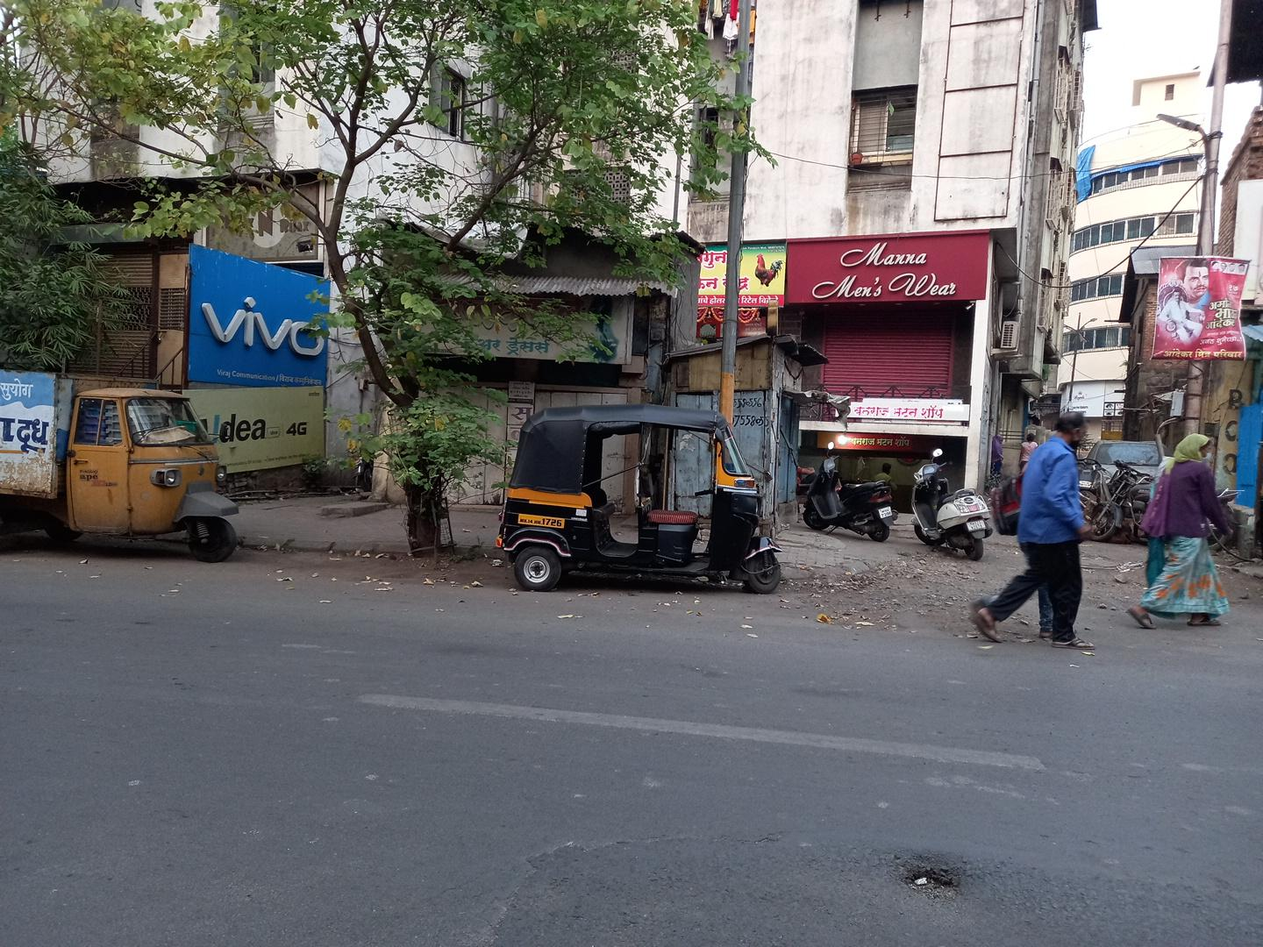Auto: (459, 358, 757, 600)
